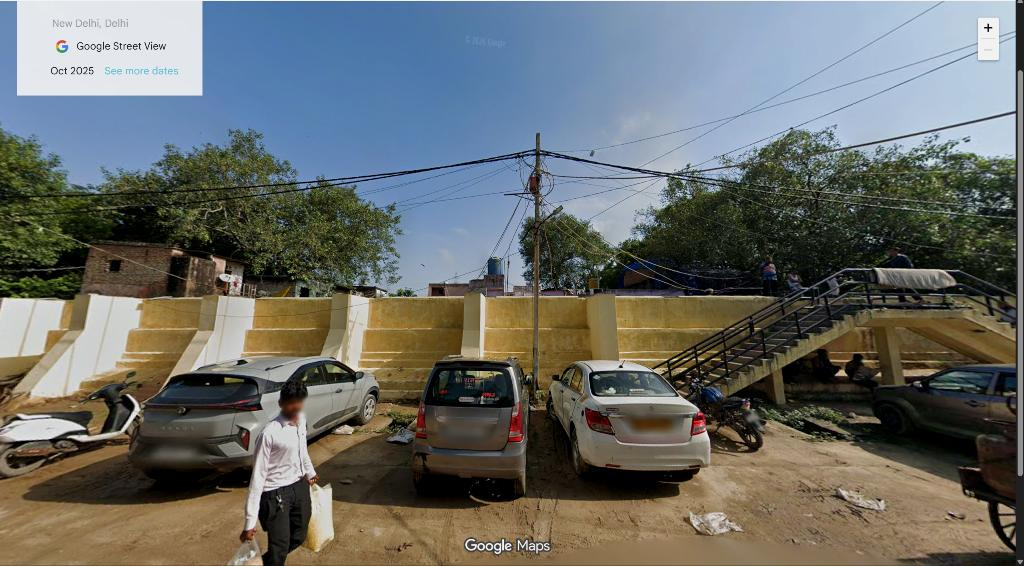garbage: (302, 473, 336, 562), (682, 504, 745, 540)
